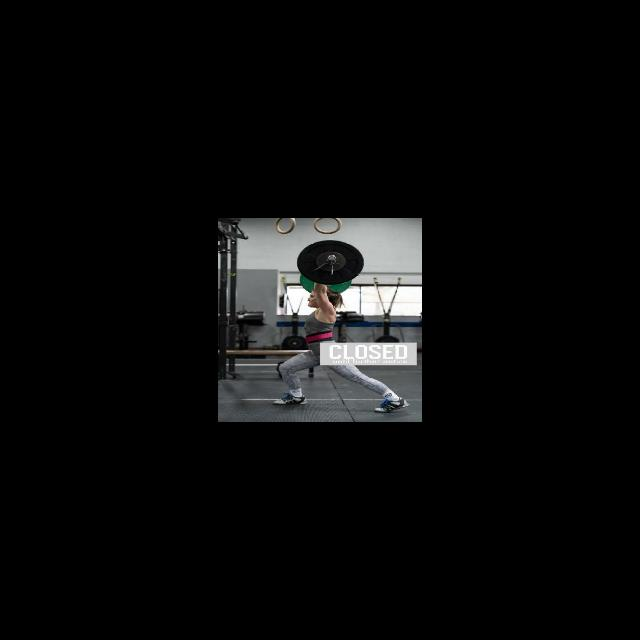barbell: (295, 239, 365, 286)
